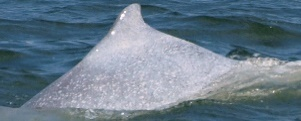fin: (23, 2, 263, 114)
